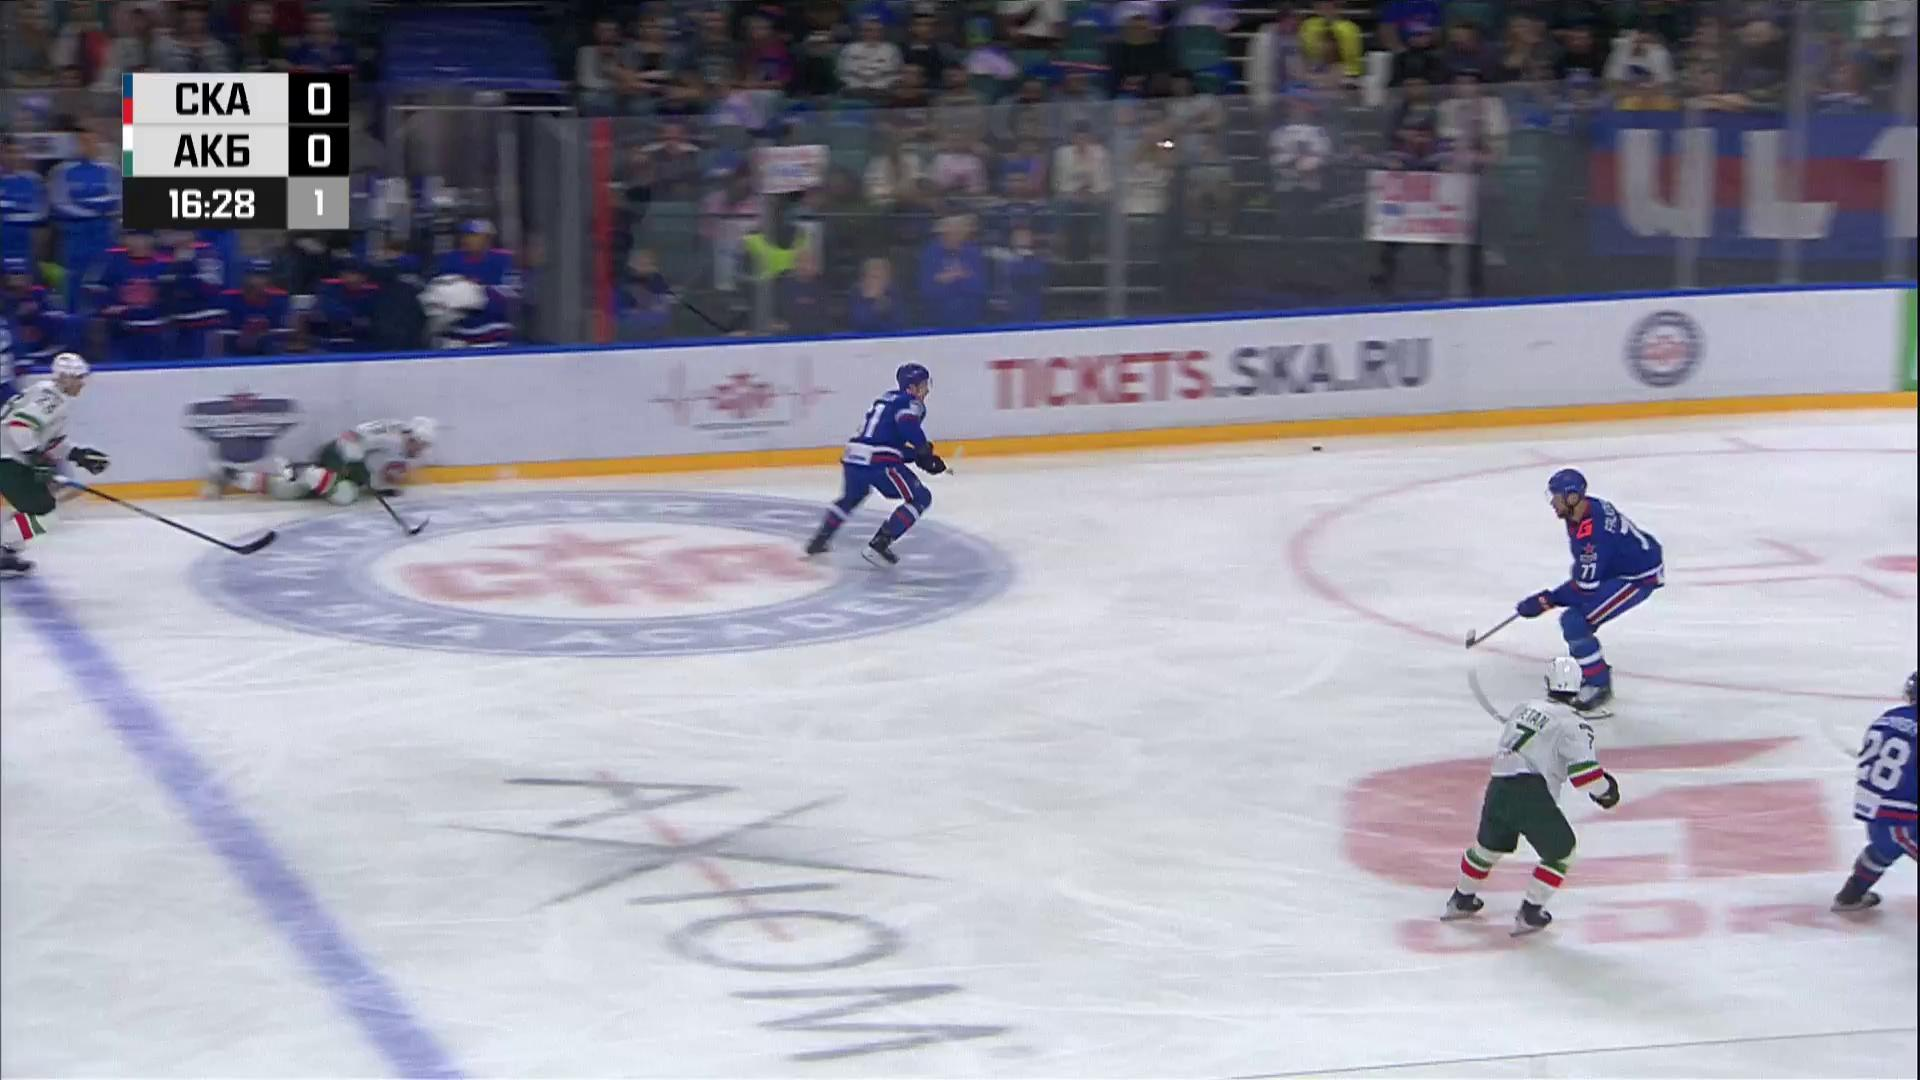ball: (1312, 446, 1323, 451)
